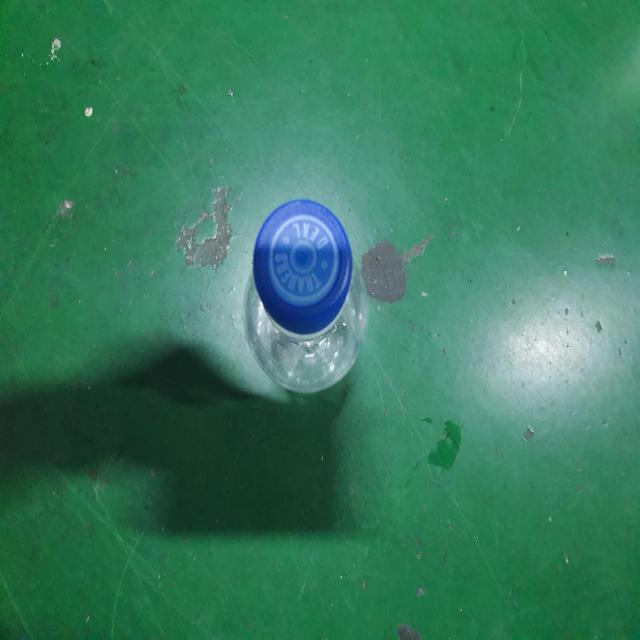plastic: (244, 199, 368, 393)
